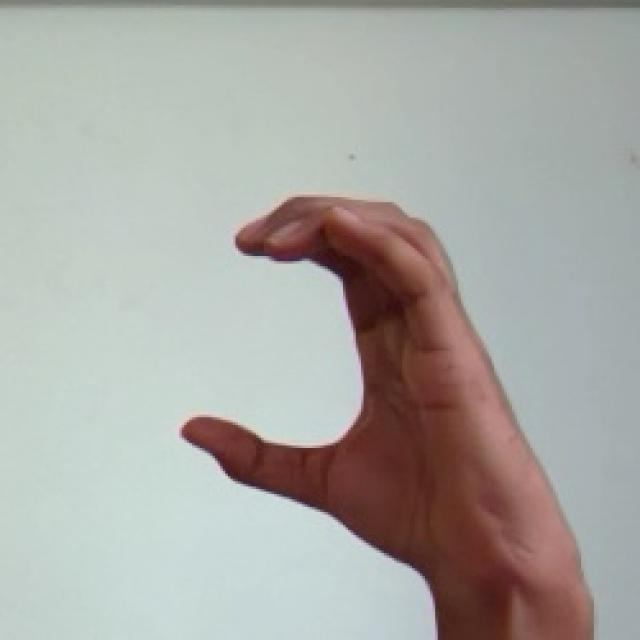Alphabet-C: (0, 8, 640, 640), (182, 197, 594, 640)
